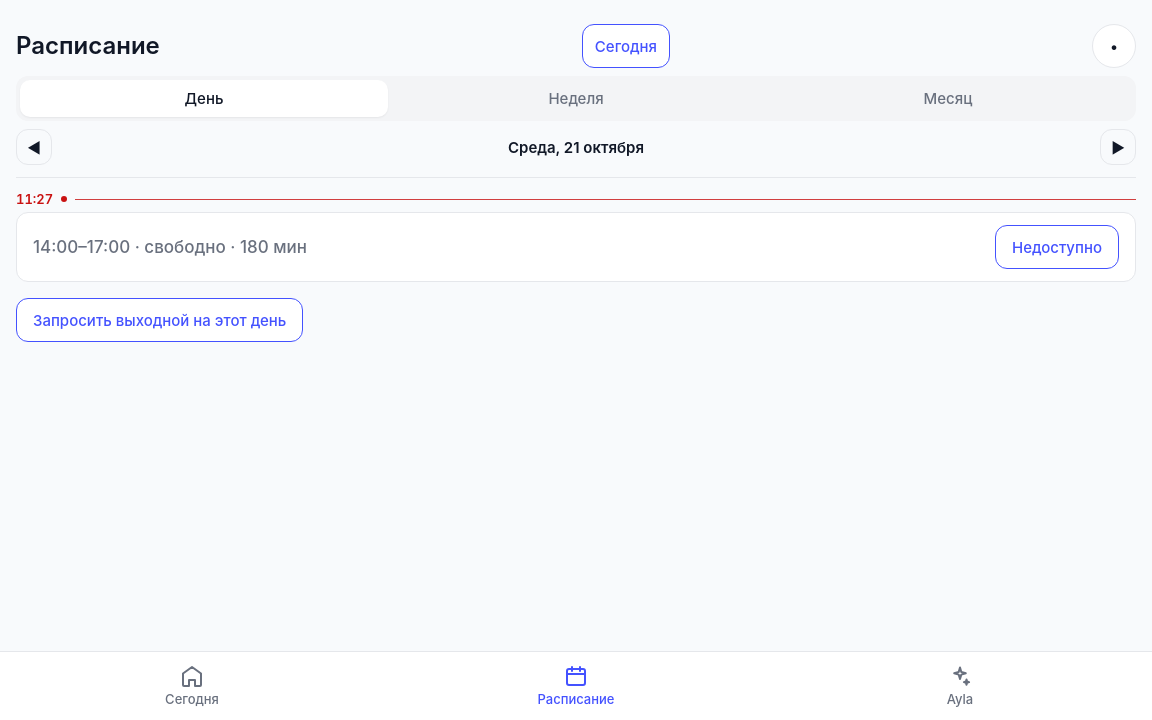
Test: «Расписание»: свободное окно ведёт в запись, «недоступно» — вторично › «Недоступно» — отдельная кнопка окна, открывает прежний лист заявки
Check: the button with aria-label "Записать на 14:00–17:00" is shown, box [33,225,987,269]
Check: the text "14:00–17:00 · свободно · 180 мин" is shown, box [33,237,307,257]
Click the button with aria-label "Недоступно: 14:00–17:00" at (1057, 247), box [995,225,1119,269]
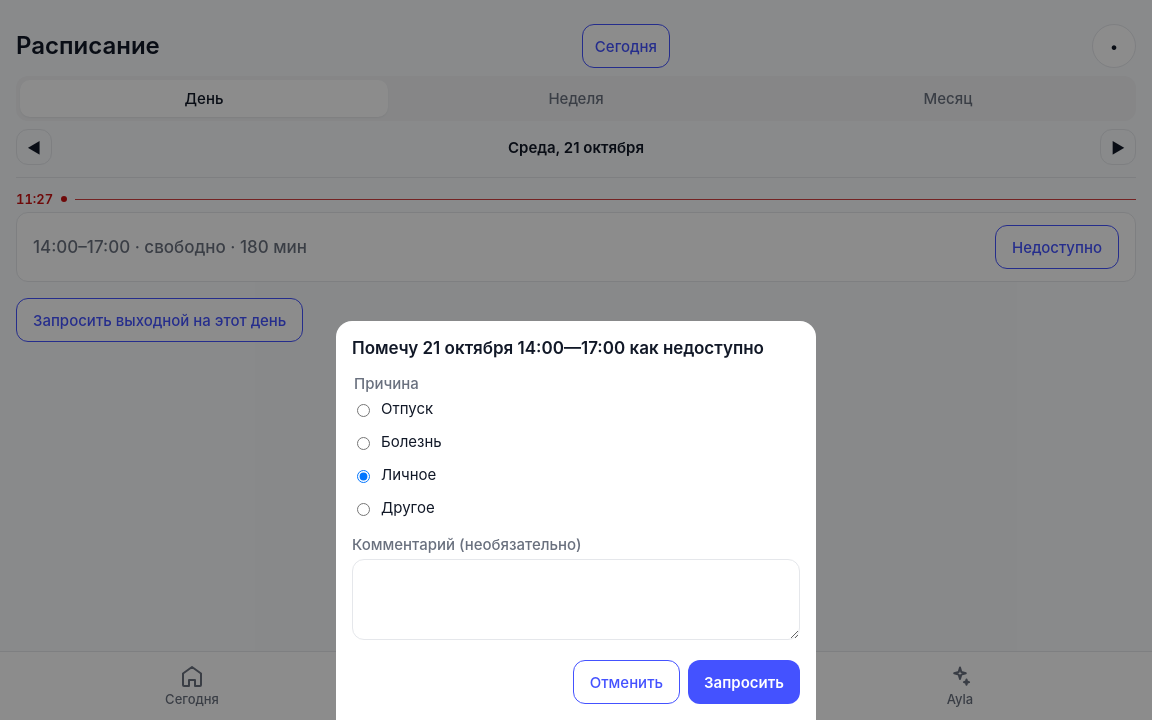
Check: the dialog named "Помечу как недоступно" is shown
